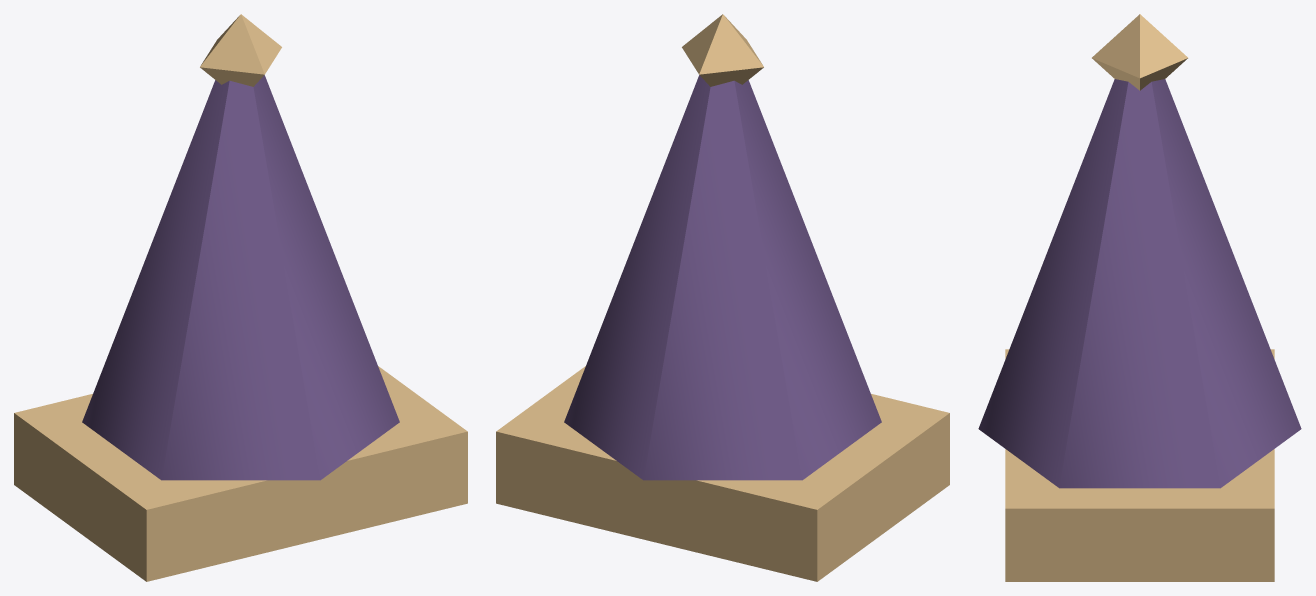
3 renders of one model, left to right at view 1: azimuth 30°, elevation 25°; view 2: azimuth 150°, elevation 25°; view 3: azimuth 270°, elevation 25°, orthographic.
Visible parts, largest first — view 1: sculpture-faceted, sculpture-base, sculpture-cap; view 2: sculpture-faceted, sculpture-base, sculpture-cap; view 3: sculpture-faceted, sculpture-base, sculpture-cap.
Part boxes in pixels (box(x1,y1,x2,y2)): sculpture-faceted: box(82, 75, 399, 480); sculpture-base: box(14, 366, 467, 581); sculpture-cap: box(200, 14, 281, 86); sculpture-faceted: box(564, 75, 881, 480); sculpture-base: box(496, 366, 949, 581); sculpture-cap: box(682, 14, 763, 86); sculpture-faceted: box(978, 79, 1301, 488); sculpture-base: box(1005, 349, 1274, 581); sculpture-cap: box(1092, 14, 1187, 90).
Size of the model in its own units: 0.14 by 0.2 by 0.12.
